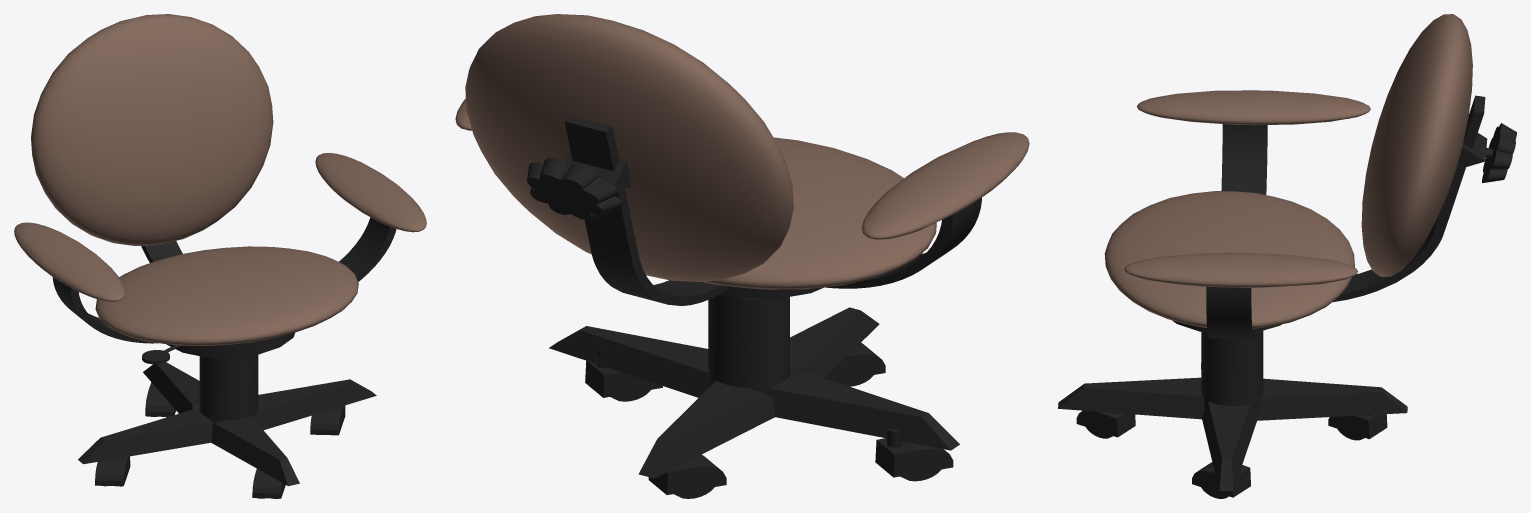
The model's file is sh-contrib-office-chair2.glb.
3 views of the same model, side by side, from view 1: azimuth 30°, elevation 25°; view 2: azimuth 150°, elevation 25°; view 3: azimuth 270°, elevation 25° (orthographic). The views are drawn at different scales.
Visible parts, largest first — view 1: chair_cus3_42_42, caster11_1_1; view 2: chair_cus3_42_42, caster11_1_1; view 3: chair_cus3_42_42, caster11_1_1.
Part boxes in pixels (x1,y1,x2,y2): chair_cus3_42_42: [14, 14, 426, 345]; caster11_1_1: [52, 217, 396, 498]; chair_cus3_42_42: [455, 14, 1029, 289]; caster11_1_1: [527, 115, 981, 498]; chair_cus3_42_42: [1104, 14, 1472, 328]; caster11_1_1: [1058, 95, 1516, 498].
Size of the model in its own units: 1 by 1 by 0.9998.
